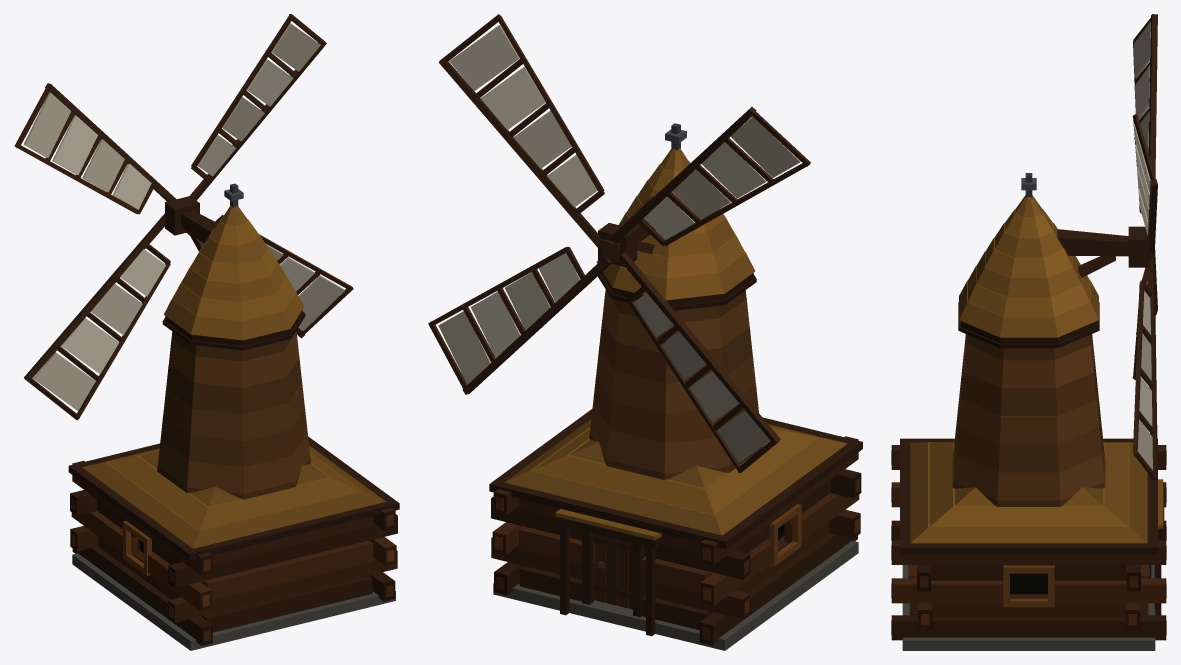
The model's file is WindMill.glb.
The picture shows the model from 3 angles, left to right: view 1: azimuth 30°, elevation 25°; view 2: azimuth 150°, elevation 25°; view 3: azimuth 270°, elevation 25°; orthographic projection. The views are drawn at different scales.
Parts seen in each view (by area): view 1: WindMill, WindMillSails, WindMillCap; view 2: WindMill, WindMillSails, WindMillCap, WindMillDoor; view 3: WindMill, WindMillCap, WindMillSails, WindMillGlass.
Part boxes in pixels (<box>): WindMill: <box>68,310,399,650</box>; WindMillSails: <box>14,14,353,420</box>; WindMillCap: <box>164,183,304,340</box>; WindMill: <box>489,272,862,650</box>; WindMillSails: <box>428,14,810,472</box>; WindMillCap: <box>596,123,755,300</box>; WindMillDoor: <box>594,533,632,609</box>; WindMill: <box>891,302,1166,650</box>; WindMillCap: <box>959,173,1128,337</box>; WindMillSails: <box>1128,14,1157,480</box>; WindMillGlass: <box>1009,565,1048,593</box>.
Size of the model in its own units: 8.8 by 12.58 by 5.82.
